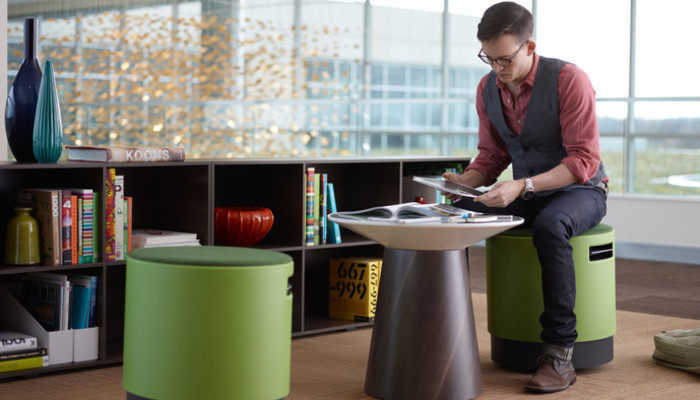chairs: (123, 243, 298, 400), (484, 214, 619, 369)
